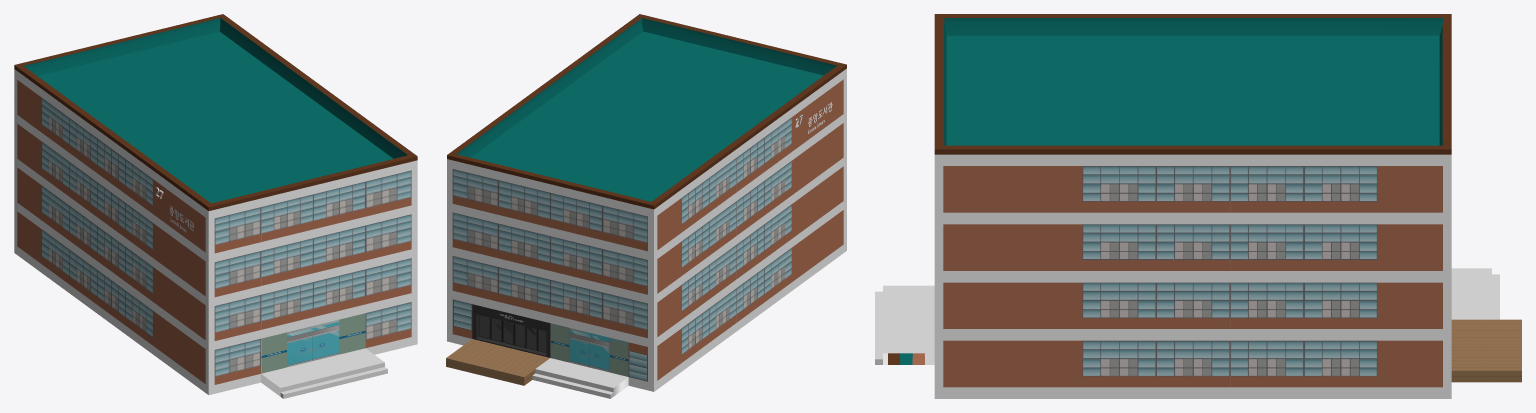
The model's file is building_centrallibrary.gltf.
The picture shows the model from 3 angles, left to right: view 1: azimuth 30°, elevation 25°; view 2: azimuth 150°, elevation 25°; view 3: azimuth 270°, elevation 25°; orthographic projection. The views are drawn at different scales.
Visible parts, largest first — view 1: building_centrallibrary; view 2: building_centrallibrary; view 3: building_centrallibrary.
Boxes of the visible parts, bbox=[...] form: building_centrallibrary: bbox=[14, 14, 417, 398]; building_centrallibrary: bbox=[446, 14, 846, 398]; building_centrallibrary: bbox=[875, 14, 1521, 398].
Bounding box in the file's own units: 1.74 × 1.48 × 3.49.
1 material, 1 textured.
